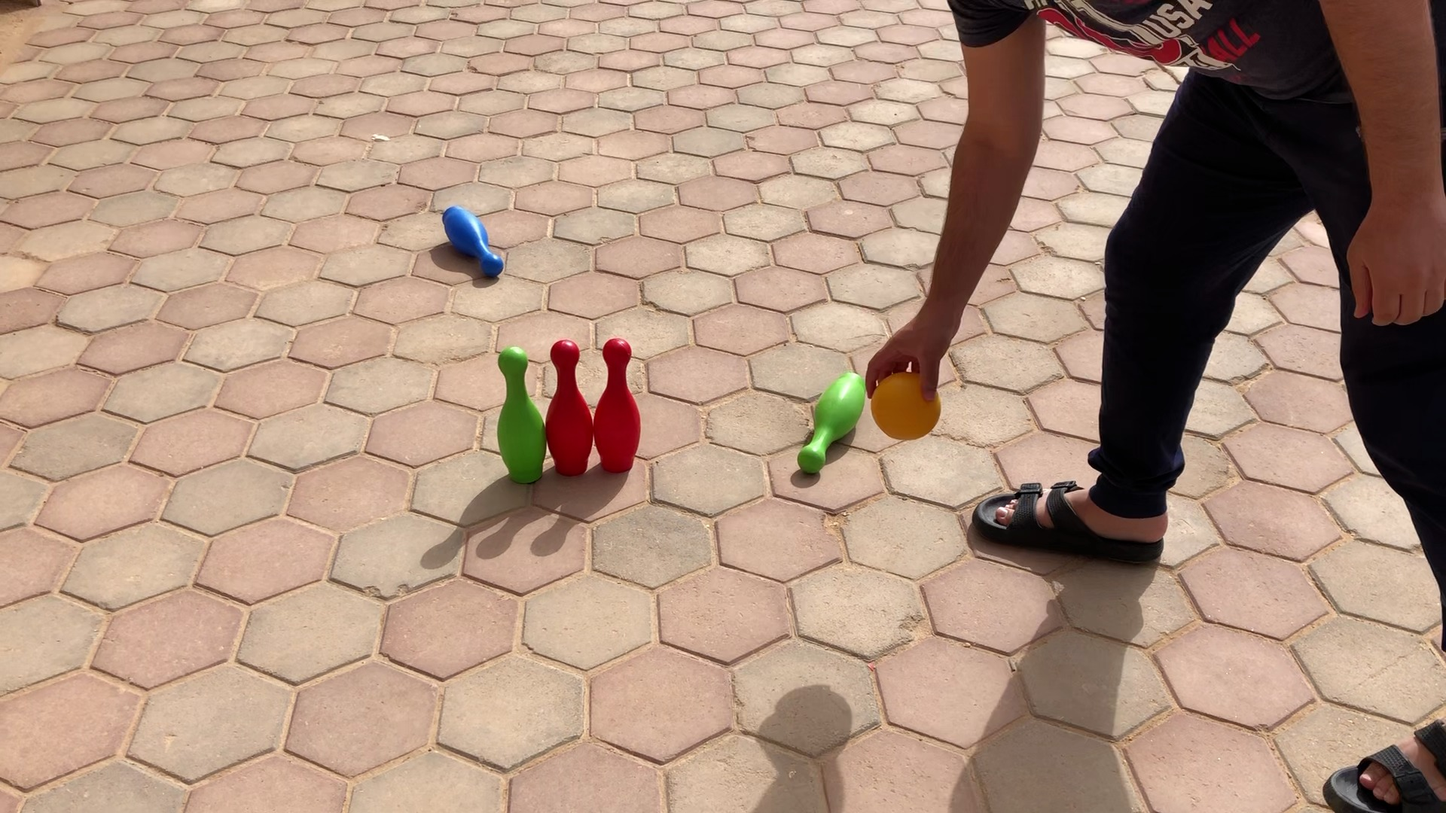bowling-pin: (495, 347, 546, 483), (593, 339, 641, 473), (545, 341, 592, 477), (800, 374, 862, 473), (444, 207, 508, 277)
